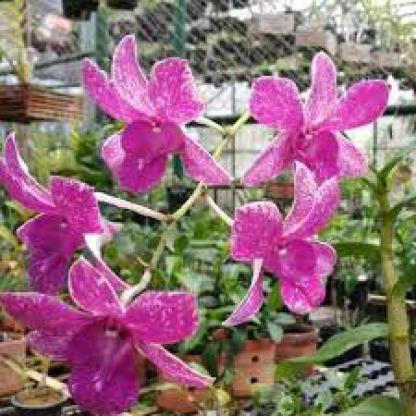ANGGREK: (18, 14, 397, 404)
